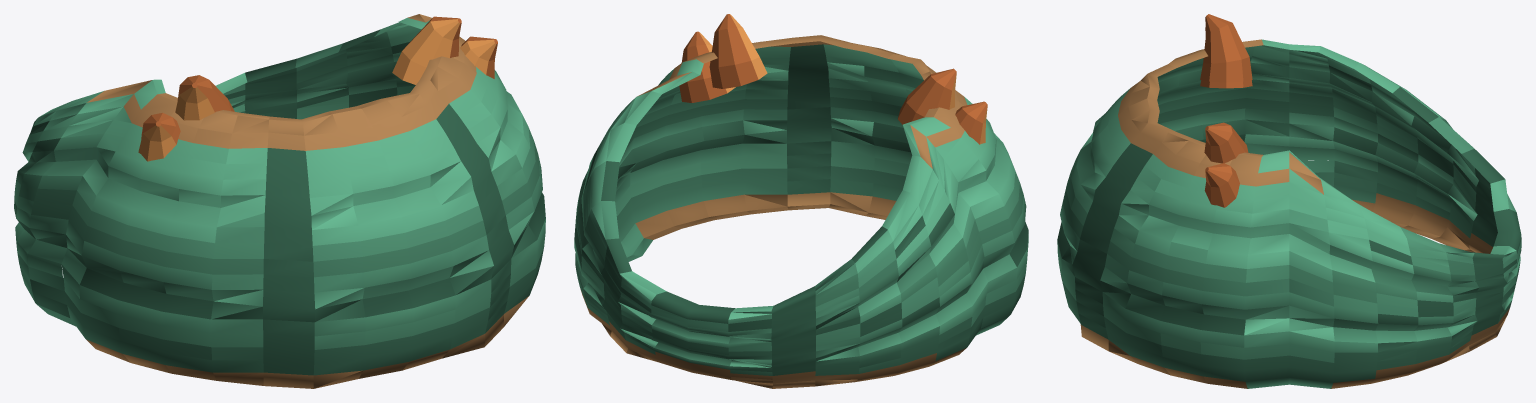
File: Dino_Gathering_Body.glb
The picture shows the model from 3 angles, left to right: view 1: azimuth 30°, elevation 25°; view 2: azimuth 150°, elevation 25°; view 3: azimuth 270°, elevation 25°; orthographic projection. The views are drawn at different scales.
Visible parts, largest first — view 1: Dino_Gathering_Body; view 2: Dino_Gathering_Body; view 3: Dino_Gathering_Body.
Boxes of the visible parts, left/top/right/bottom form: Dino_Gathering_Body: left=14, top=14, right=545, bottom=388; Dino_Gathering_Body: left=574, top=14, right=1028, bottom=388; Dino_Gathering_Body: left=1057, top=14, right=1521, bottom=388.
Bounding box in the file's own units: 1.3 × 0.7243 × 1.32.
